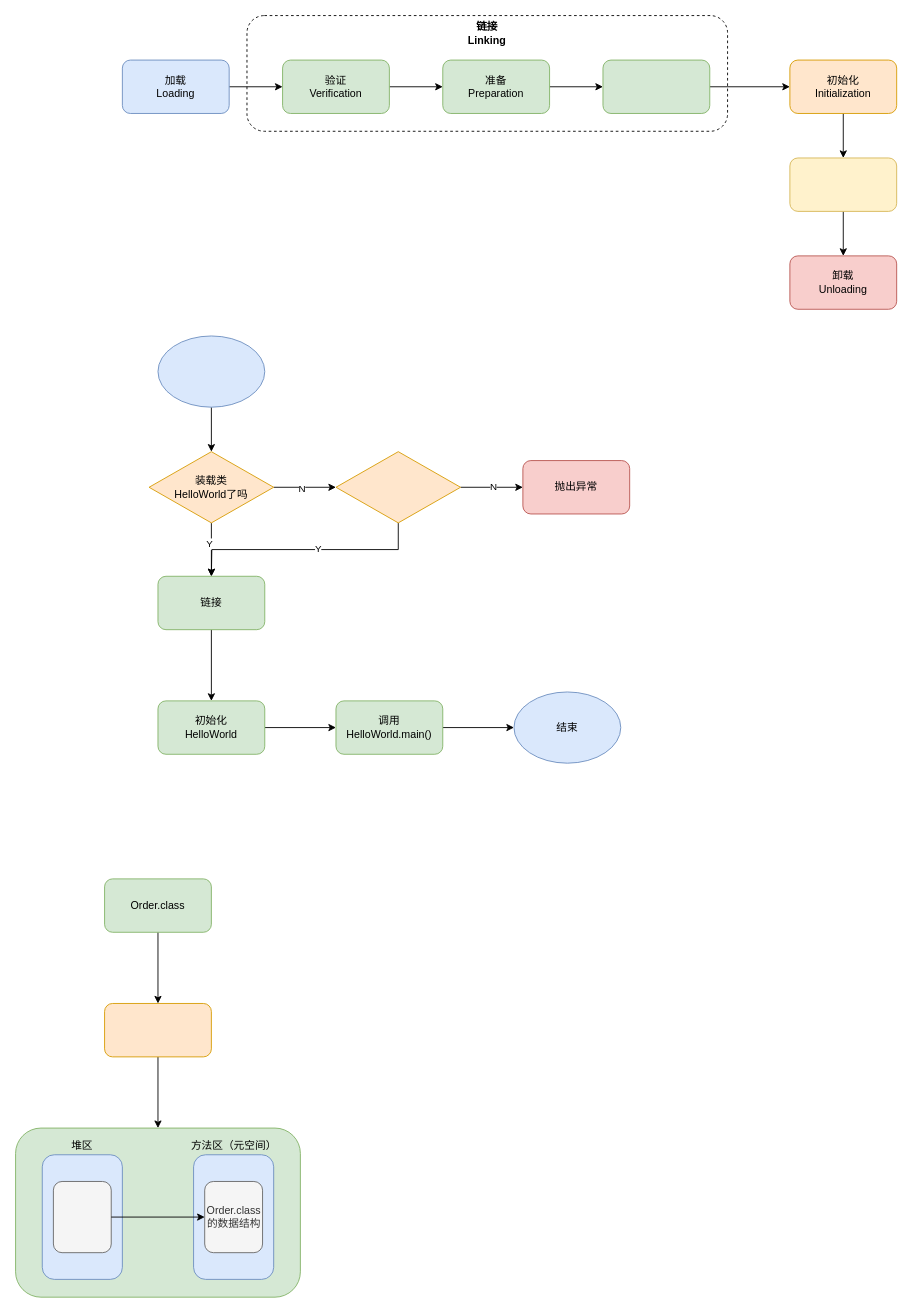
Image size: 912x1313. Some labels were removed from this diagram. The centre of each missing label's shape, as x and y in pixels:
"ClassLoader 装载顺利" belongs at point 398,487.
"Order.class 的Class对象" belongs at point 82,1217.
"使用 Using" belongs at point 843,184.
"开始" belongs at point 211,371.
"类加载器" belongs at point 157,1030.
"解析 Resolution" belongs at point 656,86.
